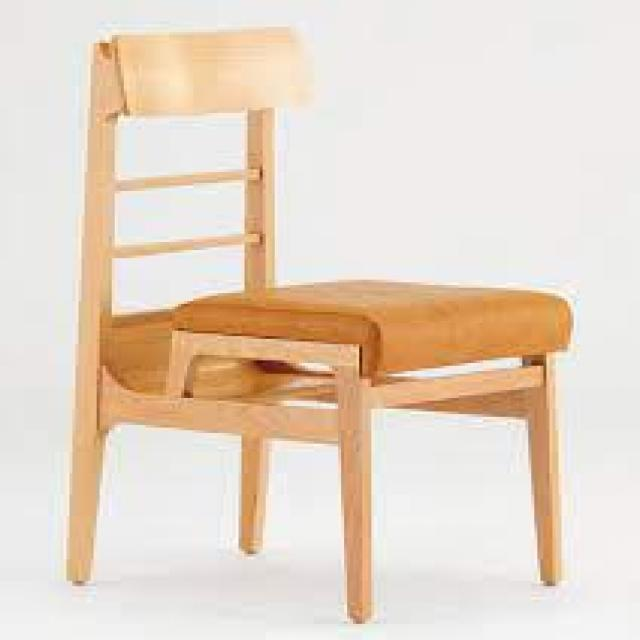chair: (48, 23, 589, 625)
